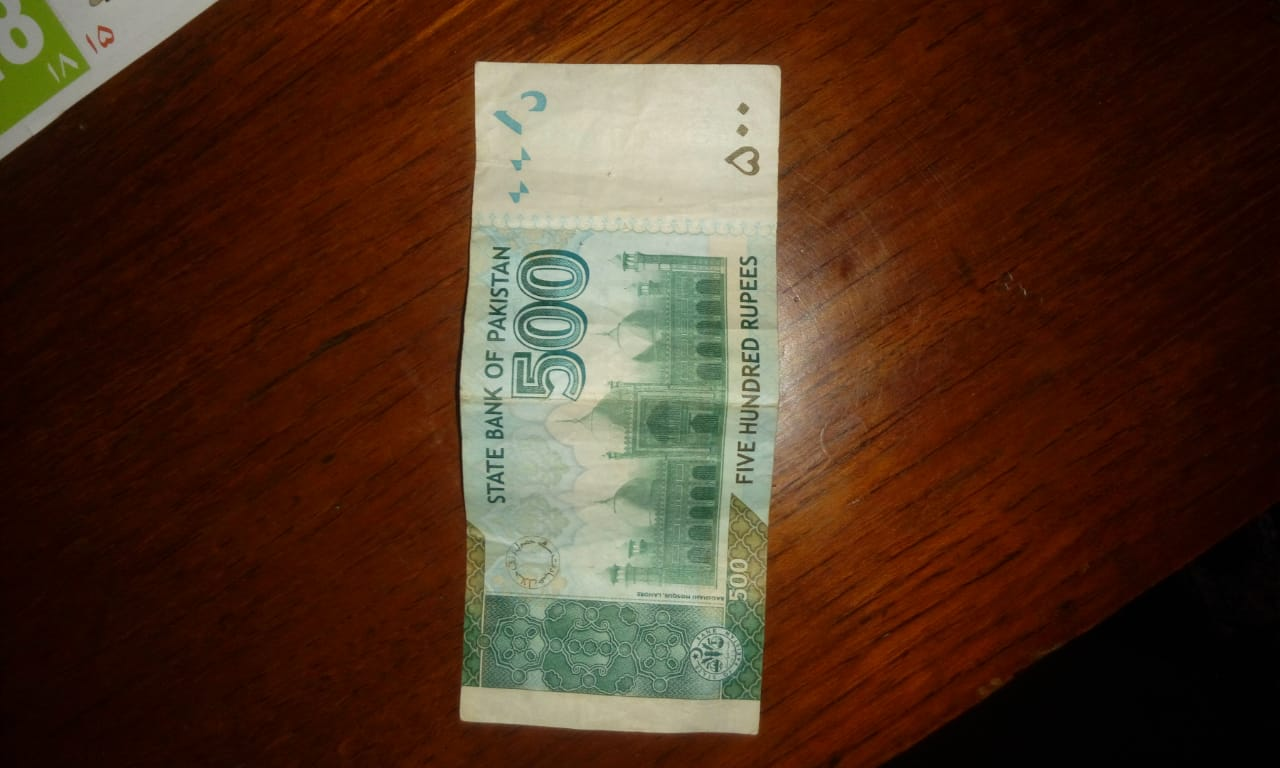500 rupee: (395, 42, 816, 728)
